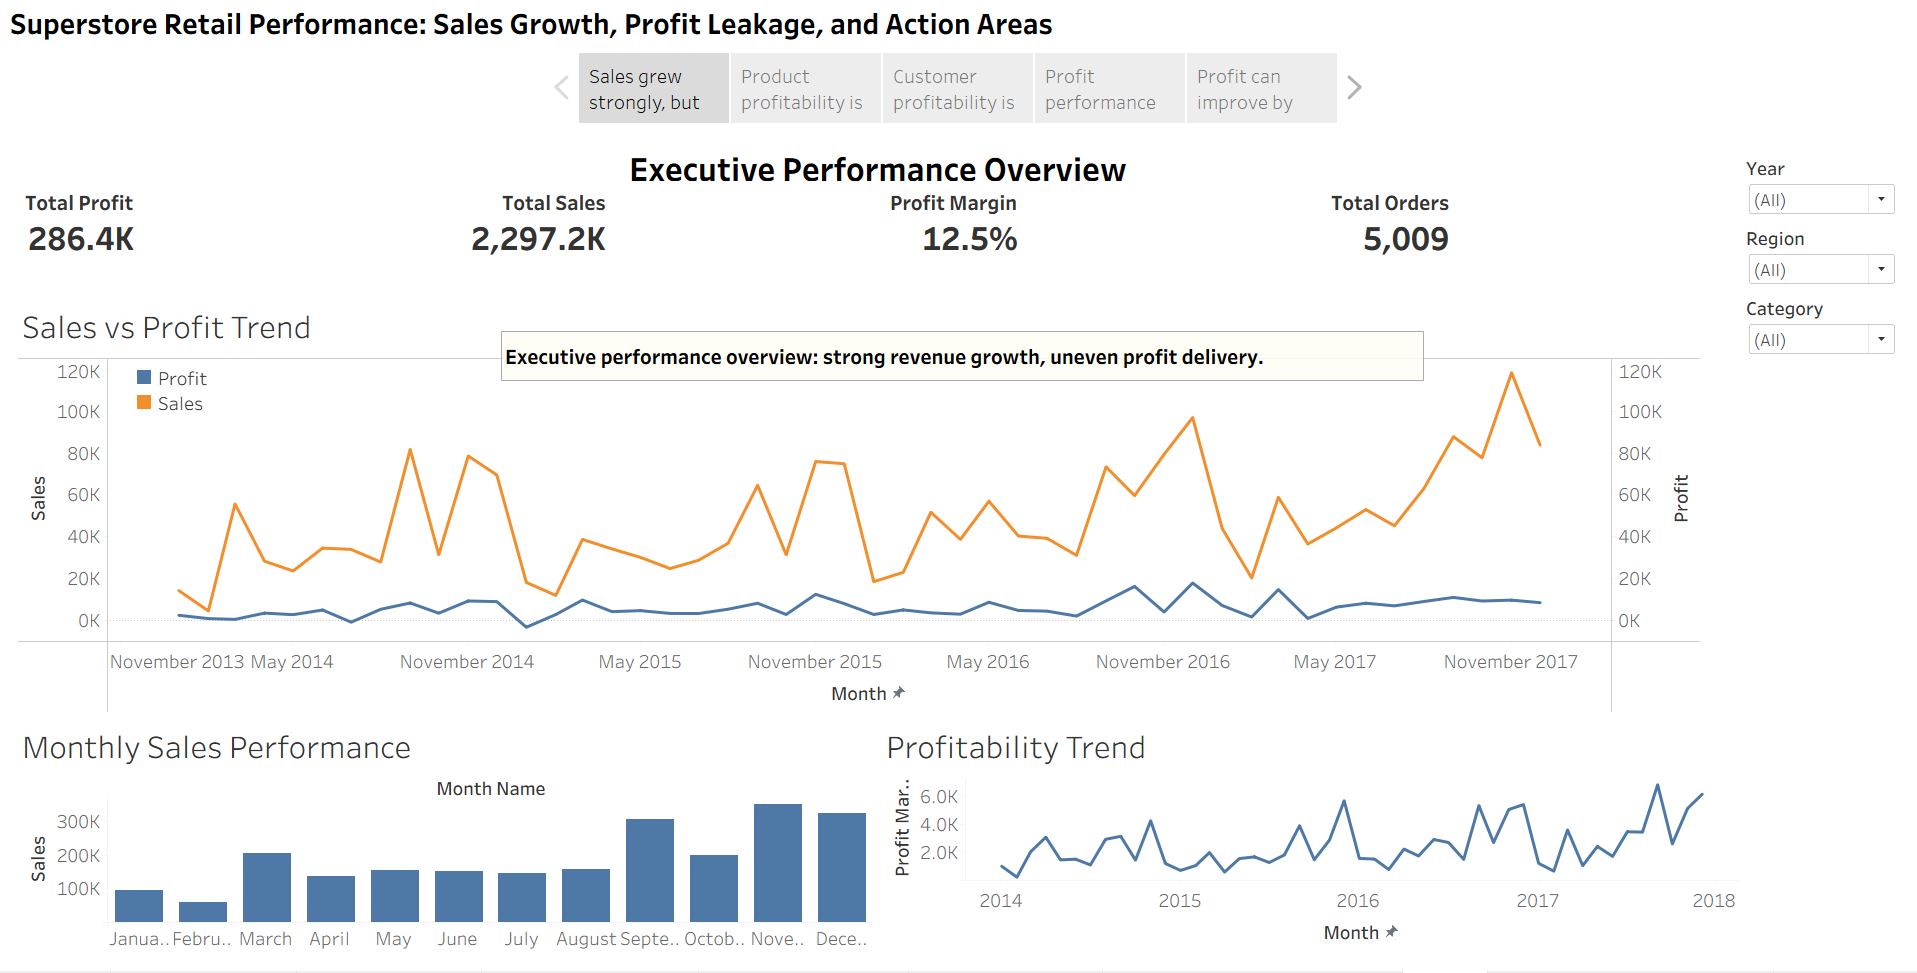

What the dashboard file says about the page in this screenshot:
{"tool":"tableau","page":{"name":"Executive Performance Overview","canvas":[1000,1000],"units":"permille","ordinal":2},"visuals":[{"type":"text","box":[4.2,8.2,908.3,42]},{"type":"filter","title":"Sales vs Profit Trend","param":"[federated.1k9e1lu12u8j3r19thx170q1152m].[yr:full_date:ok]","box":[912.5,8.2,83.3,71.8]},{"type":"worksheet","title":"KPI_Total_Profit","mark":"Automatic","box":[4.2,50.3,227.1,136.4]},{"type":"worksheet","title":"KPI_Total_Sales","mark":"Automatic","box":[231.2,50.3,227.1,136.4]},{"type":"worksheet","title":"KPI_Profit_Margin","mark":"Automatic","box":[458.3,50.3,227.1,136.4]},{"type":"worksheet","title":"KPI_Total_Orders","mark":"Automatic","box":[685.4,50.3,227.1,136.4]},{"type":"filter","title":"Sales vs Profit Trend","param":"[federated.1k9e1lu12u8j3r19thx170q1152m].[none:region:nk]","box":[912.5,80,83.3,71.8]},{"type":"filter","title":"Sales vs Profit Trend","param":"[federated.1k9e1lu12u8j3r19thx170q1152m].[none:category:nk]","box":[912.5,151.8,83.3,71.8]},{"type":"worksheet","title":"Sales vs Profit Trend","mark":"Automatic","rows":["sales","profit"],"cols":["full_date"],"box":[4.2,186.6,889,513.5]},{"type":"legend","title":"Sales vs Profit Trend","param":"[federated.1k9e1lu12u8j3r19thx170q1152m].[:Measure Names]","box":[66.1,270.3,71.1,68.2]},{"type":"worksheet","title":"Monthly Sales Performance","mark":"Automatic","rows":["sales"],"cols":["month_name"],"box":[4.2,700.5,454.2,291.3]},{"type":"worksheet","title":"Profitability Trend","mark":"Automatic","rows":["profit_margin_pct"],"cols":["full_date"],"box":[458.3,700.5,454.2,291.3]}]}

Visuals, with their boxes on the dashboard's canvas, which has no fixed pixel size, in thousandths of its width and height (x1, y1, x2, y2). These are canvas units, not pixel positions in the 1917x973 screenshot, which may show the page scaled, cropped or inside an application window:
text: select_region(4, 8, 912, 50)
"Sales vs Profit Trend" filter: select_region(912, 8, 996, 80)
"KPI_Total_Profit" worksheet: select_region(4, 50, 231, 187)
"KPI_Total_Sales" worksheet: select_region(231, 50, 458, 187)
"KPI_Profit_Margin" worksheet: select_region(458, 50, 685, 187)
"KPI_Total_Orders" worksheet: select_region(685, 50, 912, 187)
"Sales vs Profit Trend" filter: select_region(912, 80, 996, 152)
"Sales vs Profit Trend" filter: select_region(912, 152, 996, 224)
"Sales vs Profit Trend" worksheet: select_region(4, 187, 893, 700)
"Sales vs Profit Trend" legend: select_region(66, 270, 137, 338)
"Monthly Sales Performance" worksheet: select_region(4, 700, 458, 992)
"Profitability Trend" worksheet: select_region(458, 700, 912, 992)
